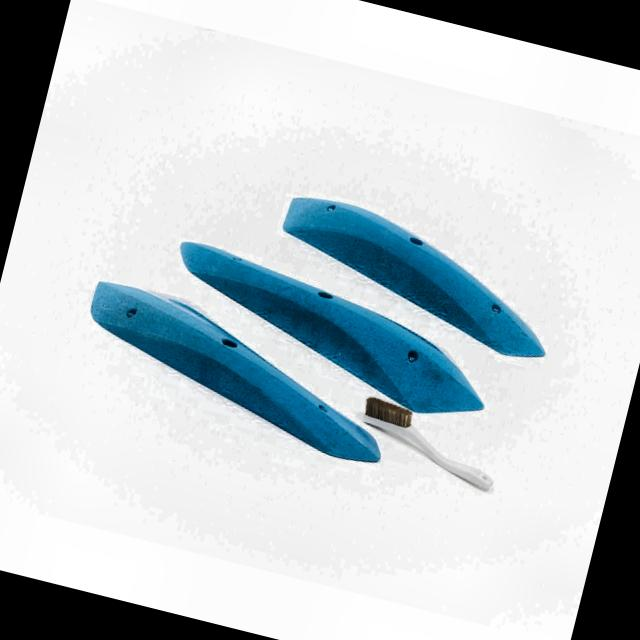Hold: (72, 263, 390, 469), (169, 231, 493, 426), (272, 184, 561, 370)
